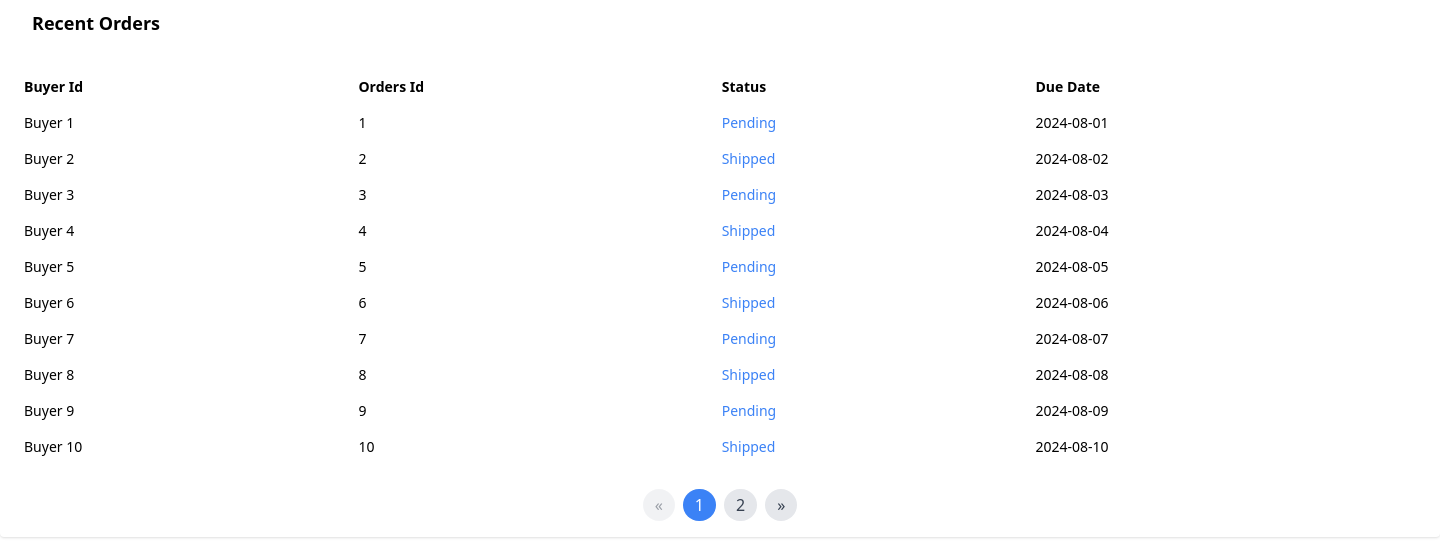
Test: RecentOrders Component › should paginate correctly
This screenshot has width=1440, height=555.
expect the text "Buyer 1" is shown: met, box [16, 105, 350, 141]
expect the text "Buyer 2" is shown: met, box [16, 141, 350, 177]
Step 1. Click the button "2" → (741,505), box [724, 489, 757, 521]
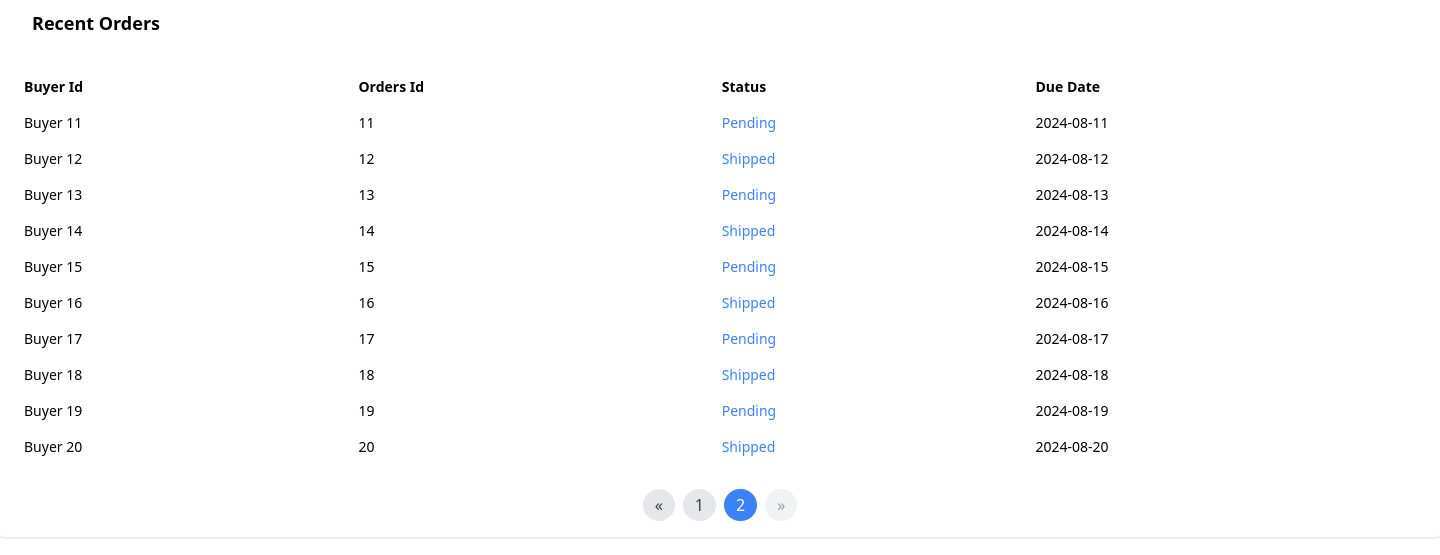
Step 2. Click the button "1" → (699,505), box [683, 489, 716, 521]
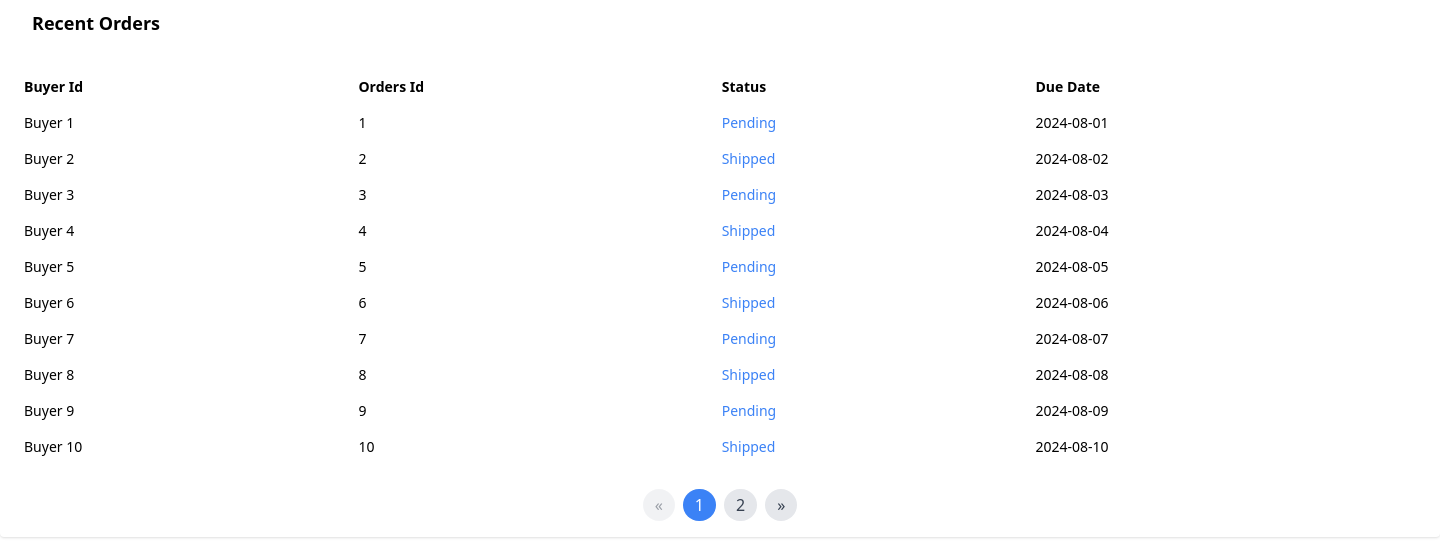
expect the text "Buyer 1" is shown: met, box [16, 105, 350, 141]
expect the text "Buyer 2" is shown: met, box [16, 141, 350, 177]
